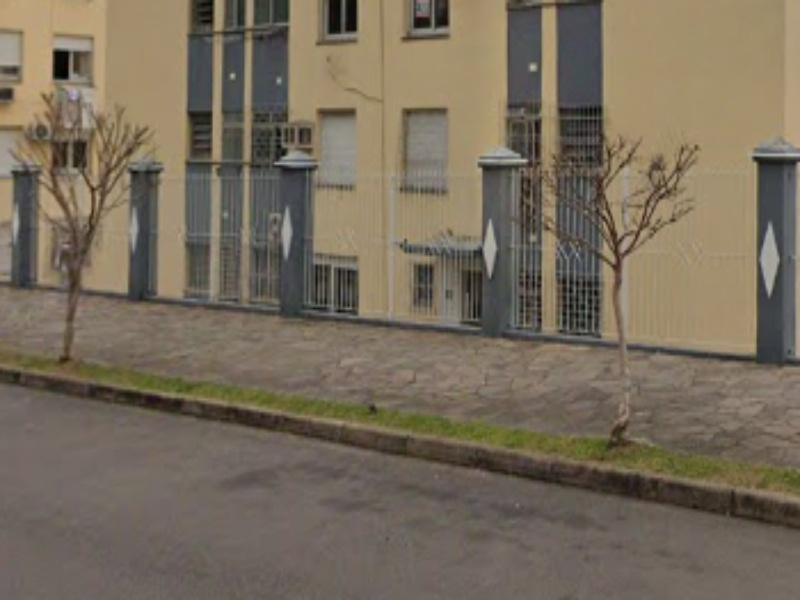v80: (3, 316, 797, 539)
